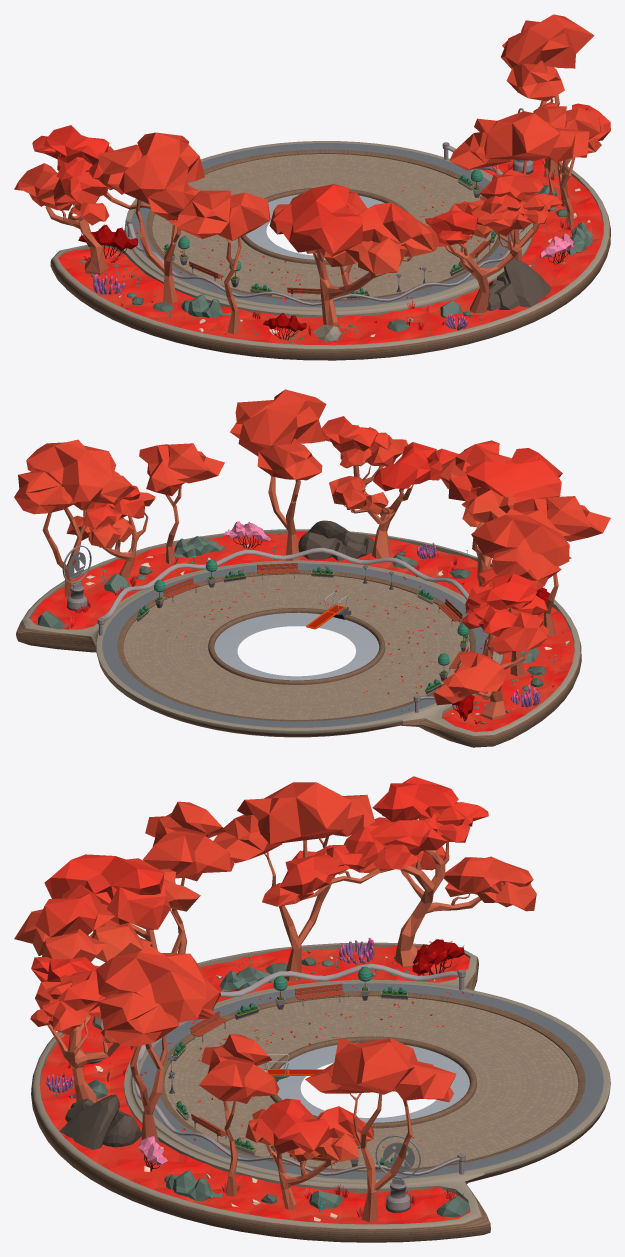
File: lobby_platform.glb
3 renders of one model, top to bottom at view 1: azimuth 30°, elevation 25°; view 2: azimuth 150°, elevation 25°; view 3: azimuth 270°, elevation 25°, orthographic. The views are drawn at different scales.
Visible parts, largest first — view 1: cloud_platform.002, cloud_platform.003, Asian_Tree05.001, Asian_Tree02.004, Asian_Tree04.033, Asian_Tree06.061, Asian_Tree02.002, Asian_Tree02.001, Asian_Tree02.007, Core_Rocks.012, Core_Rocks.013, Core_Details.004 (+4 smaller); view 2: cloud_platform.002, cloud_platform.003, Asian_Tree04.033, Asian_Tree06.061, Asian_Tree02.002, Asian_Tree02.001, Asian_Tree05.001, Asian_Tree02.004, Asian_Tree05.034, Asian_Tree02.003, Asian_Tree02.007, Core_Rocks.012 (+5 smaller); view 3: cloud_platform.002, cloud_platform.003, Asian_Tree04.033, Asian_Tree05.001, Asian_Tree02.002, Asian_Tree02.004, Asian_Tree02.001, Asian_Tree05.034, Asian_Tree06.061, Asian_Tree02.007, Asian_Tree02.003, Core_Rocks.012 (+5 smaller).
Part boxes in pixels (x1=…): cloud_platform.002: x1=50, y1=141, x2=610, y2=360; cloud_platform.003: x1=58, y1=157, x2=603, y2=345; Asian_Tree05.001: x1=269, y1=184, x2=438, y2=326; Asian_Tree02.004: x1=98, y1=132, x2=204, y2=303; Asian_Tree04.033: x1=14, y1=125, x2=177, y2=274; Asian_Tree06.061: x1=425, y1=169, x2=562, y2=313; Asian_Tree02.002: x1=449, y1=111, x2=589, y2=261; Asian_Tree02.001: x1=501, y1=14, x2=594, y2=177; Asian_Tree02.007: x1=176, y1=190, x2=270, y2=334; Core_Rocks.012: x1=127, y1=184, x2=593, y2=342; Core_Rocks.013: x1=486, y1=259, x2=552, y2=310; Core_Details.004: x1=78, y1=161, x2=573, y2=340; cloud_platform.002: x1=16, y1=529, x2=581, y2=747; cloud_platform.003: x1=30, y1=531, x2=574, y2=731; Asian_Tree04.033: x1=433, y1=568, x2=549, y2=720; Asian_Tree06.061: x1=321, y1=416, x2=458, y2=558; Asian_Tree02.002: x1=230, y1=389, x2=326, y2=560; Asian_Tree02.001: x1=14, y1=439, x2=135, y2=596; Asian_Tree05.001: x1=439, y1=440, x2=562, y2=586; Asian_Tree02.004: x1=471, y1=508, x2=571, y2=676; Asian_Tree05.034: x1=66, y1=485, x2=155, y2=577; Asian_Tree02.003: x1=139, y1=443, x2=224, y2=564; Asian_Tree02.007: x1=513, y1=496, x2=610, y2=636; Core_Rocks.012: x1=38, y1=536, x2=569, y2=690; cloud_platform.002: x1=31, y1=942, x2=610, y2=1242; cloud_platform.003: x1=40, y1=946, x2=469, y2=1224; Asian_Tree04.033: x1=262, y1=776, x2=536, y2=967; Asian_Tree05.001: x1=14, y1=854, x2=200, y2=962; Asian_Tree02.002: x1=96, y1=946, x2=220, y2=1143; Asian_Tree02.004: x1=213, y1=782, x2=375, y2=981; Asian_Tree02.001: x1=305, y1=1037, x2=456, y2=1222; Asian_Tree05.034: x1=245, y1=1098, x2=373, y2=1210; Asian_Tree06.061: x1=30, y1=957, x2=134, y2=1103; Asian_Tree02.007: x1=142, y1=801, x2=234, y2=953; Asian_Tree02.003: x1=199, y1=1034, x2=279, y2=1196; Core_Rocks.012: x1=69, y1=957, x2=469, y2=1221.
Size of what is drawn, in the model's own units: 48.25 by 15.53 by 39.77.
66 materials, 66 textured.
